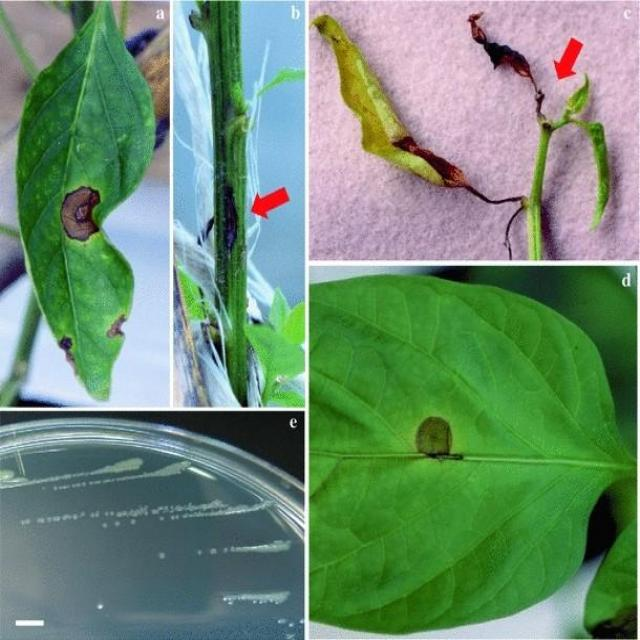blight: (55, 165, 108, 243)
